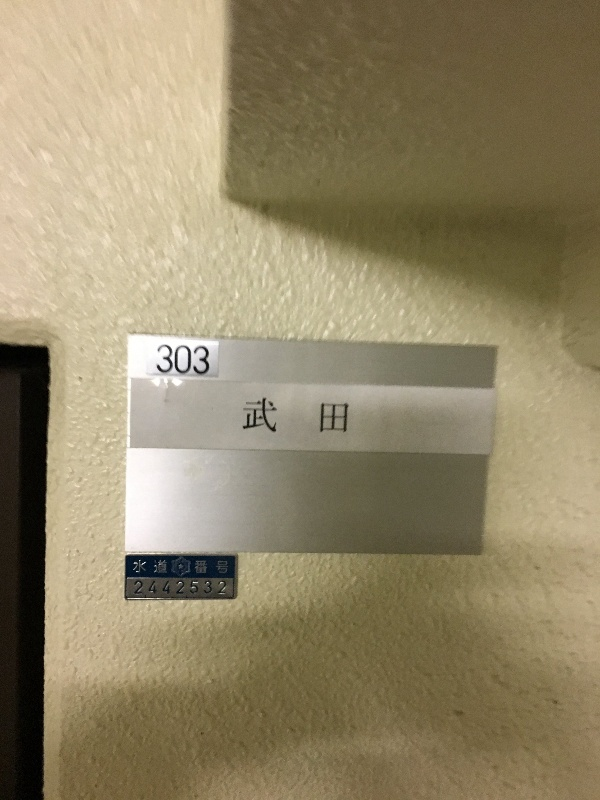text: (257, 397, 272, 433), (273, 397, 288, 433), (289, 397, 304, 433), (305, 397, 320, 433), (321, 397, 336, 433), (161, 345, 176, 376), (177, 345, 192, 376), (193, 345, 208, 376), (244, 397, 256, 433), (337, 397, 349, 433), (145, 558, 160, 575), (145, 581, 160, 595), (161, 581, 176, 595), (177, 581, 192, 595), (193, 581, 208, 595), (209, 581, 224, 595), (209, 560, 224, 574), (195, 560, 208, 574), (134, 558, 144, 575), (134, 581, 144, 595), (161, 558, 168, 575), (157, 345, 160, 376), (209, 345, 211, 376), (225, 560, 228, 574), (225, 581, 227, 595)
